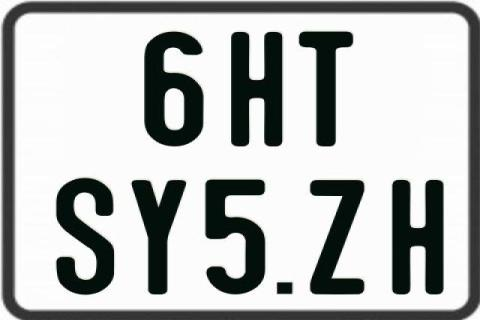0: (141, 30, 205, 148), (204, 180, 266, 296)
H: (231, 32, 288, 150), (391, 178, 447, 296)
S: (55, 177, 116, 299)
T: (296, 29, 354, 149)
Y: (130, 179, 189, 293)
Z: (307, 178, 365, 294)
